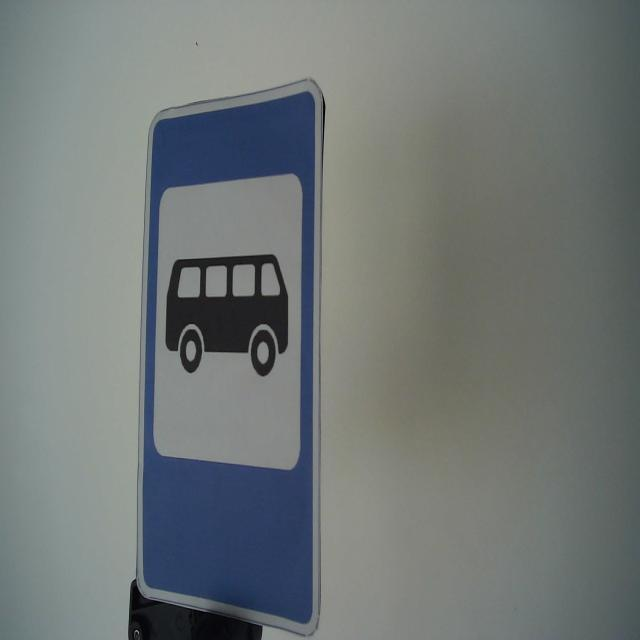bus_stop: (133, 73, 326, 640)
